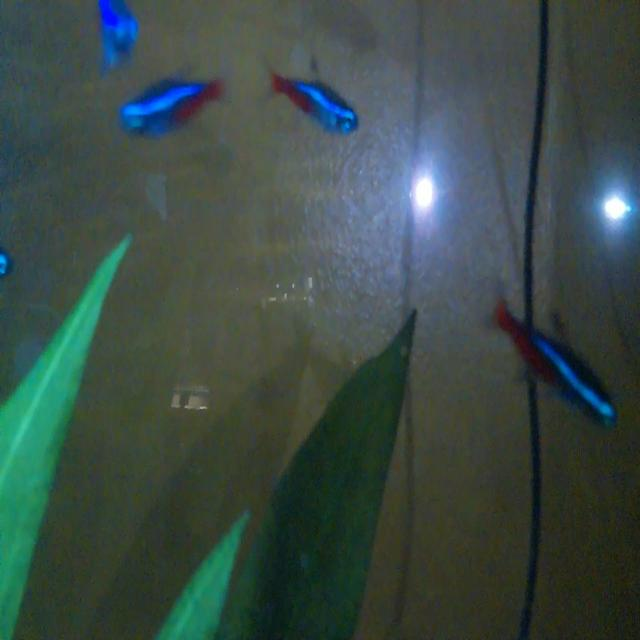fish: (488, 286, 622, 437), (105, 74, 233, 156), (260, 54, 364, 152)
